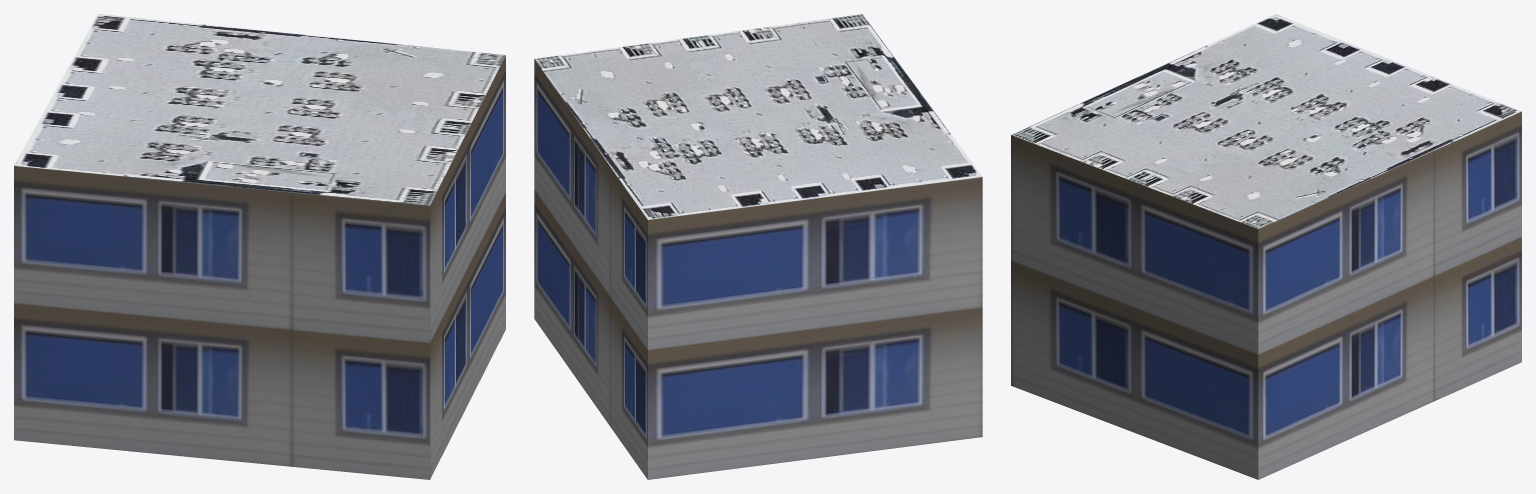
The model's file is ResTex__1700.fbx.
The picture shows the model from 3 angles, left to right: view 1: azimuth 30°, elevation 25°; view 2: azimuth 150°, elevation 25°; view 3: azimuth 270°, elevation 25°; orthographic projection. The views are drawn at different scales.
Parts seen in each view (by area): view 1: CityEngineMaterial_23_m, CityEngineMaterial_m; view 2: CityEngineMaterial_23_m, CityEngineMaterial_m; view 3: CityEngineMaterial_23_m, CityEngineMaterial_m.
Part boxes in pixels (x1,y1,x2,y2): CityEngineMaterial_23_m: (14,55,505,479); CityEngineMaterial_m: (14,14,505,205); CityEngineMaterial_23_m: (534,59,982,479); CityEngineMaterial_m: (534,14,981,219); CityEngineMaterial_23_m: (1011,111,1521,479); CityEngineMaterial_m: (1011,14,1521,228).
Size of the model in its own units: 11.04 by 6 by 11.07.
Materials: 2 (2 with a texture image).
